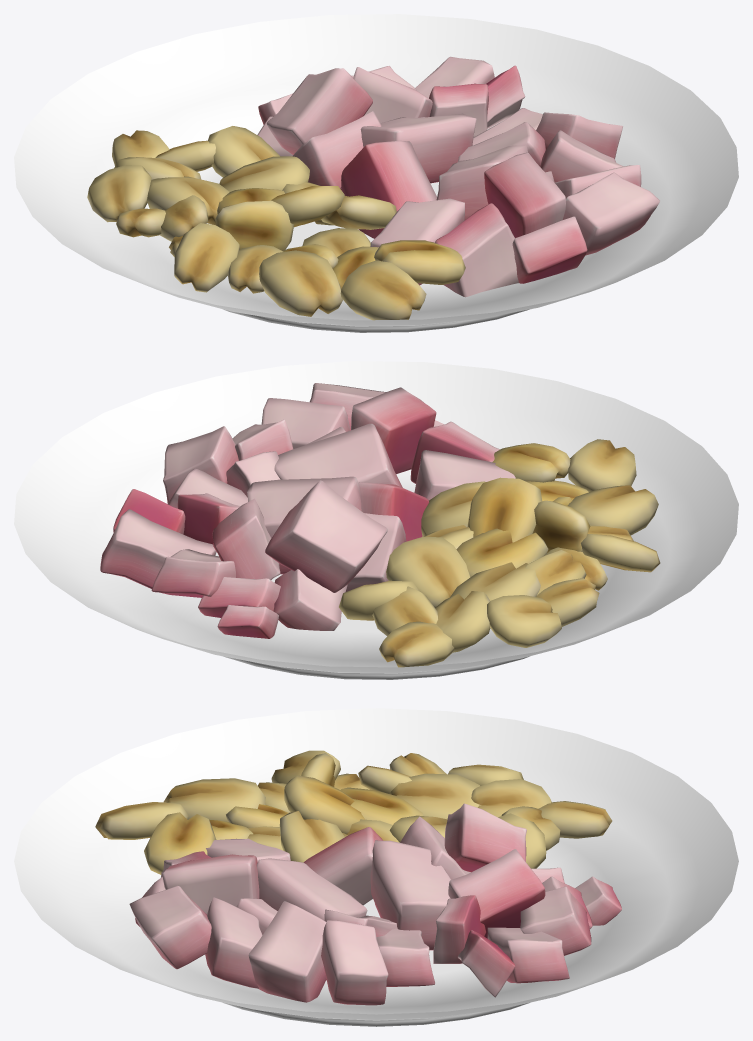
File: ceviche.gltf
The picture shows the model from 3 angles, top to bottom: view 1: azimuth 30°, elevation 25°; view 2: azimuth 150°, elevation 25°; view 3: azimuth 270°, elevation 25°; orthographic projection.
Visible parts, largest first — view 1: Plato; view 2: Plato; view 3: Plato.
Part boxes in pixels (<box>): Plato: <box>14,14,738,332</box>; Plato: <box>14,361,738,679</box>; Plato: <box>14,708,738,1026</box>.
Size of the model in its own units: 8.34 by 1.61 by 8.34.
Materials: 3 (2 with a texture image).
